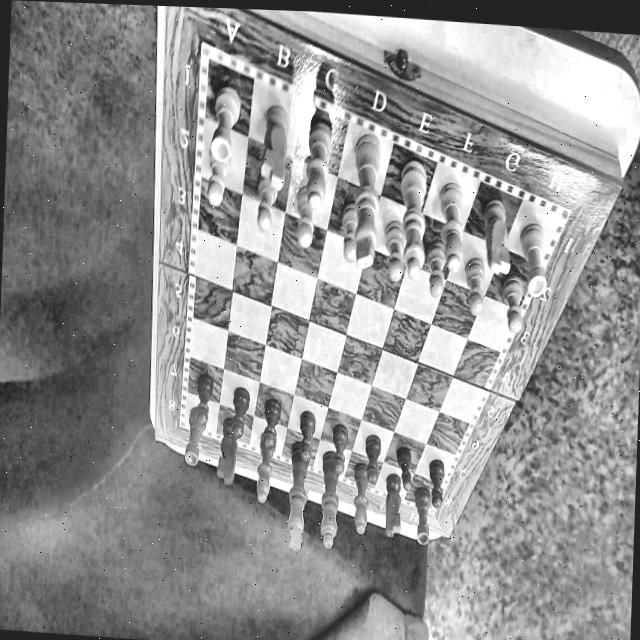chessboard: (185, 63, 560, 508)
